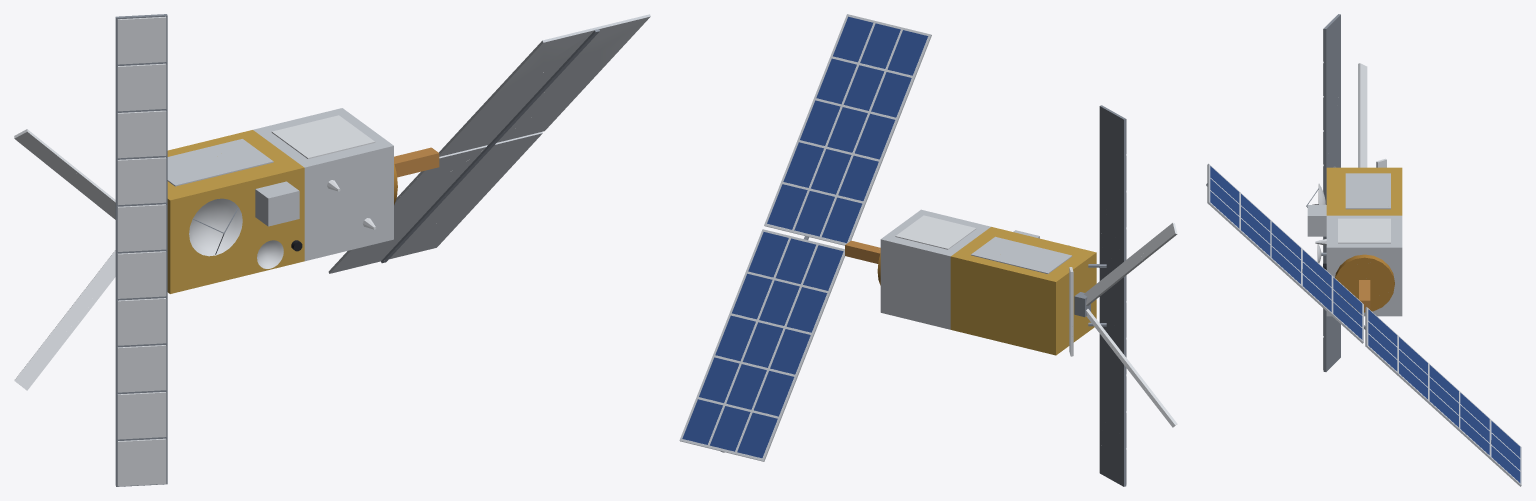
Rendered from ers-1.glb.
The picture shows the model from 3 angles, left to right: view 1: azimuth 30°, elevation 25°; view 2: azimuth 150°, elevation 25°; view 3: azimuth 270°, elevation 25°; orthographic projection. The views are drawn at different scales.
Visible parts, largest first — view 1: body, foil; view 2: solar-panel, body, foil; view 3: body, solar-panel, foil.
Boxes of the visible parts, x1,y1,x2,y2 form: body: (14,14,650,486); foil: (167,108,439,293); solar-panel: (682,16,928,458); body: (679,14,1177,486); foil: (845,209,1096,355); body: (1206,14,1521,486); solar-panel: (1210,166,1520,482); foil: (1326,167,1402,316).
Bounding box in the file's own units: 11.8 × 10 × 8.34.
